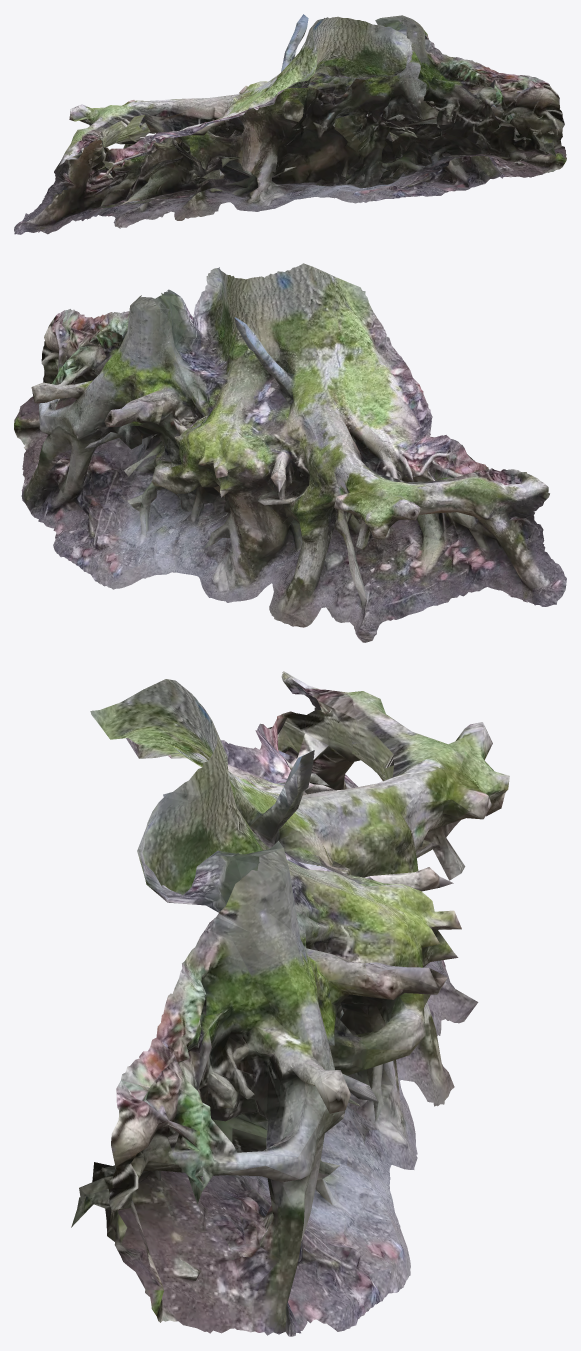
The model's file is PRP_GiantRoot.glb.
3 views of the same model, one above another, from view 1: azimuth 30°, elevation 25°; view 2: azimuth 150°, elevation 25°; view 3: azimuth 270°, elevation 25° (orthographic). The views are drawn at different scales.
Parts seen in each view (by area): view 1: Object_2; view 2: Object_2; view 3: Object_2.
Boxes of the visible parts, box(x1,y1,x2,y2) form: Object_2: box(14, 14, 566, 234); Object_2: box(14, 263, 566, 642); Object_2: box(71, 671, 509, 1336).
Bounding box in the file's own units: 9.51 × 4.52 × 3.59.
Materials: 1 (1 with a texture image).
